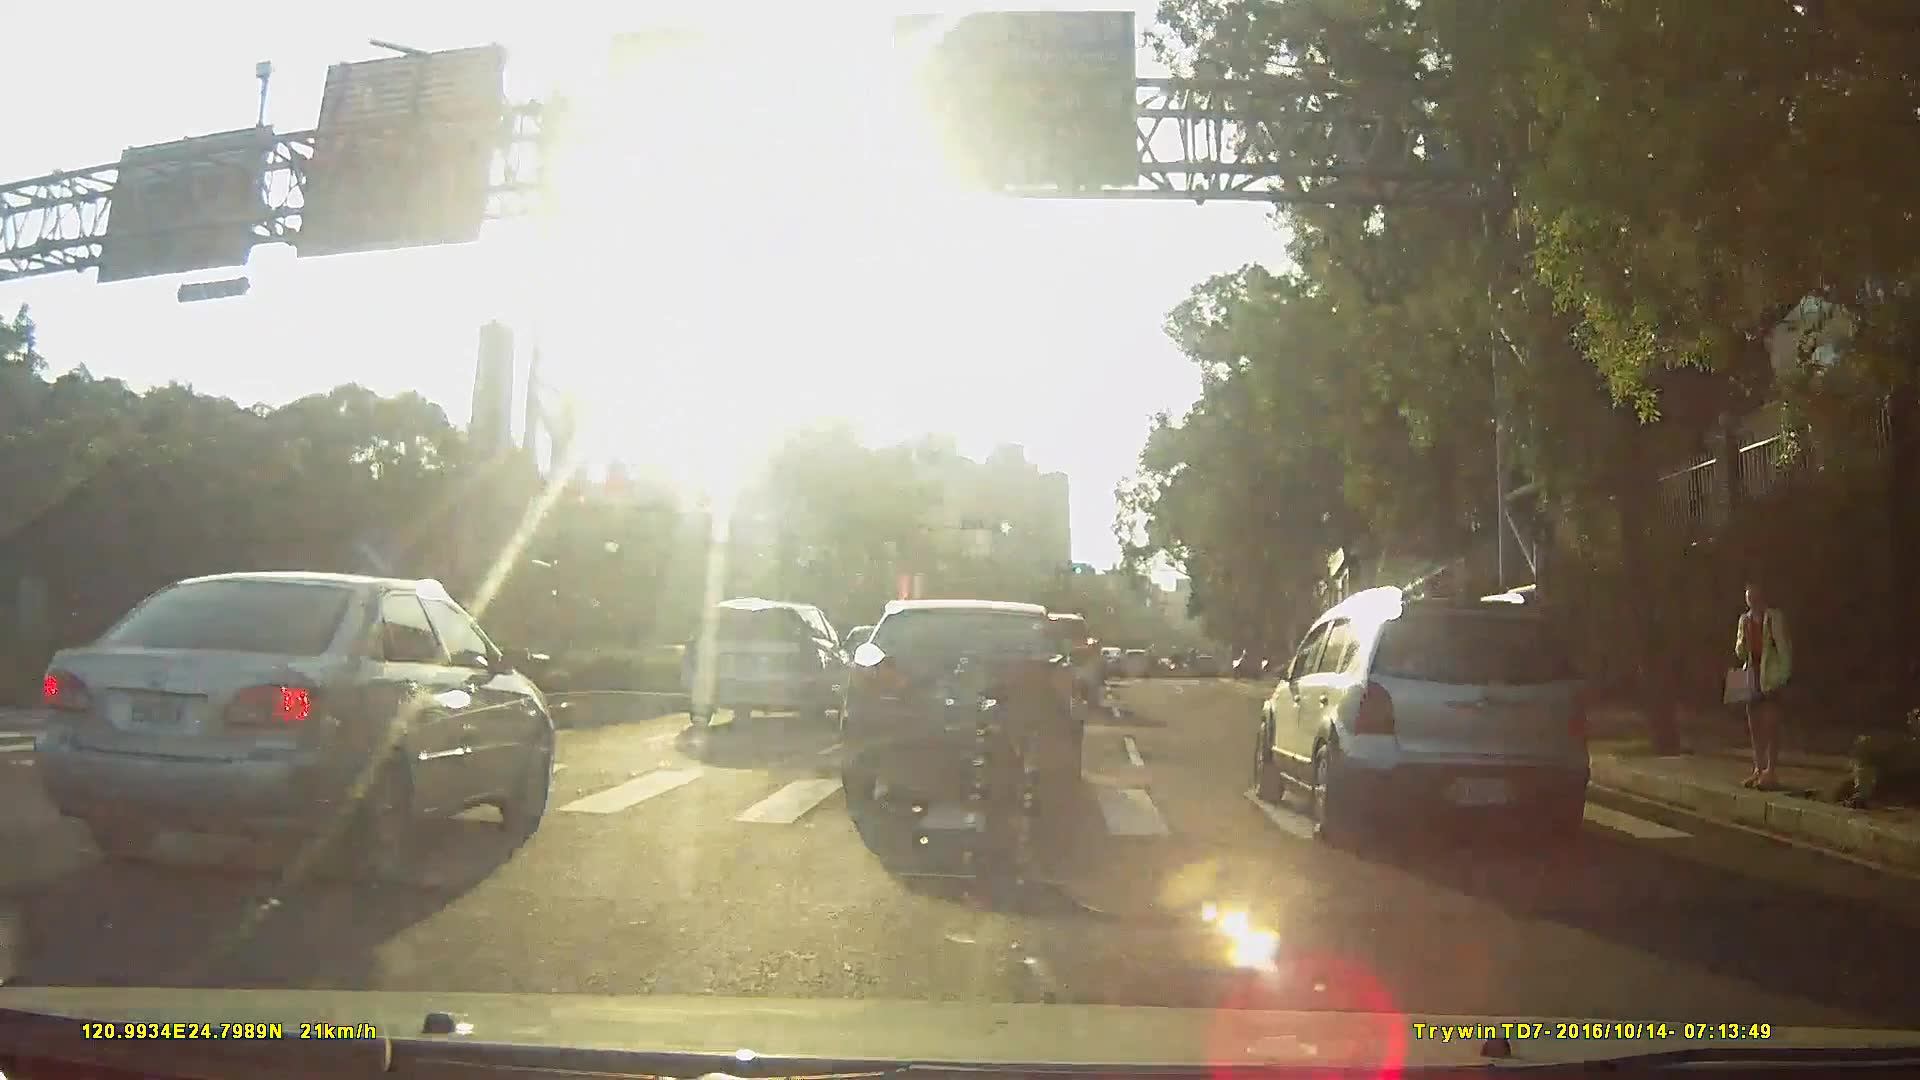pedestrian: (1727, 577, 1800, 796)
vehicle: (7, 561, 561, 886), (1233, 572, 1618, 851), (845, 593, 1103, 805), (670, 593, 851, 724), (1088, 640, 1123, 673), (1114, 640, 1148, 670)
